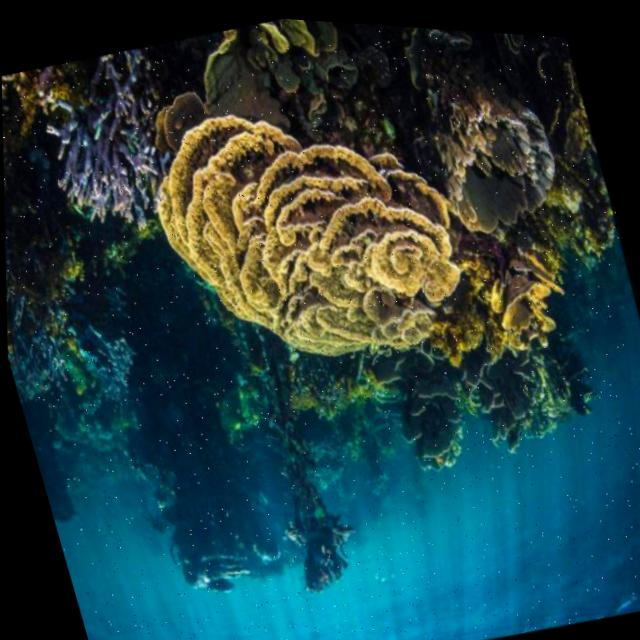Healthy Coral: (0, 0, 640, 570)
